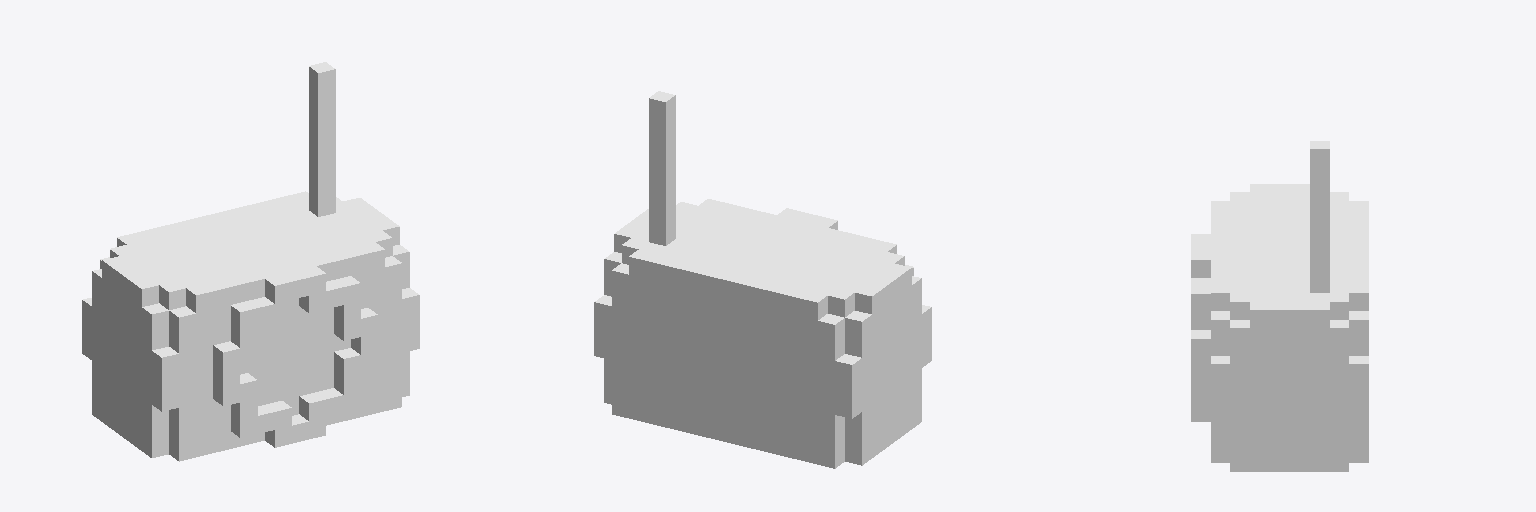
File: Robot_vox-1-21.obj
The picture shows the model from 3 angles: view 1: azimuth 30°, elevation 25°; view 2: azimuth 150°, elevation 25°; view 3: azimuth 270°, elevation 25°; orthographic projection.
Parts seen in each view (by area): view 1: object 1; view 2: object 1; view 3: object 1.
Part boxes in pixels (x1,y1,x2,y2): object 1: (82, 62, 419, 461); object 1: (594, 91, 931, 468); object 1: (1191, 141, 1368, 471).
Bounding box in the file's own units: 1.5 × 1.7 × 0.9.